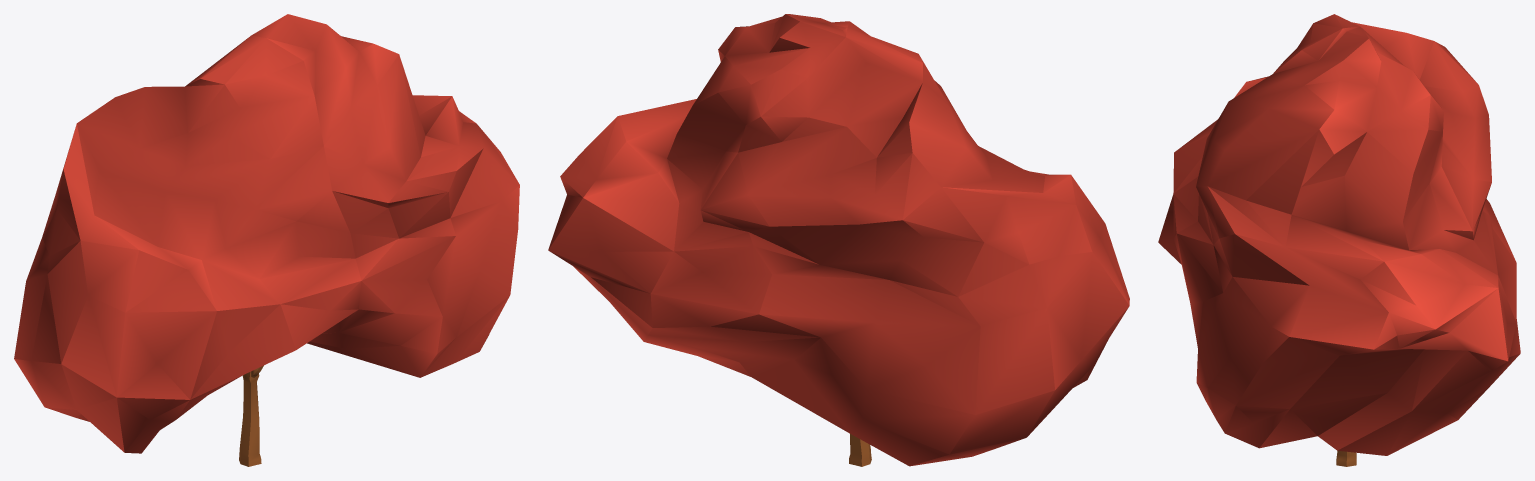
Rendered from tree_maple_1.glb.
The picture shows the model from 3 angles, left to right: view 1: azimuth 30°, elevation 25°; view 2: azimuth 150°, elevation 25°; view 3: azimuth 270°, elevation 25°; orthographic projection. The views are drawn at different scales.
Visible parts, largest first — view 1: tree_maple_1; view 2: tree_maple_1; view 3: tree_maple_1.
Boxes of the visible parts, x1,y1,x2,y2 form: tree_maple_1: (14,14,519,466); tree_maple_1: (548,14,1129,466); tree_maple_1: (1158,14,1520,466).
Bounding box in the file's own units: 10.78 × 9 × 6.6.
